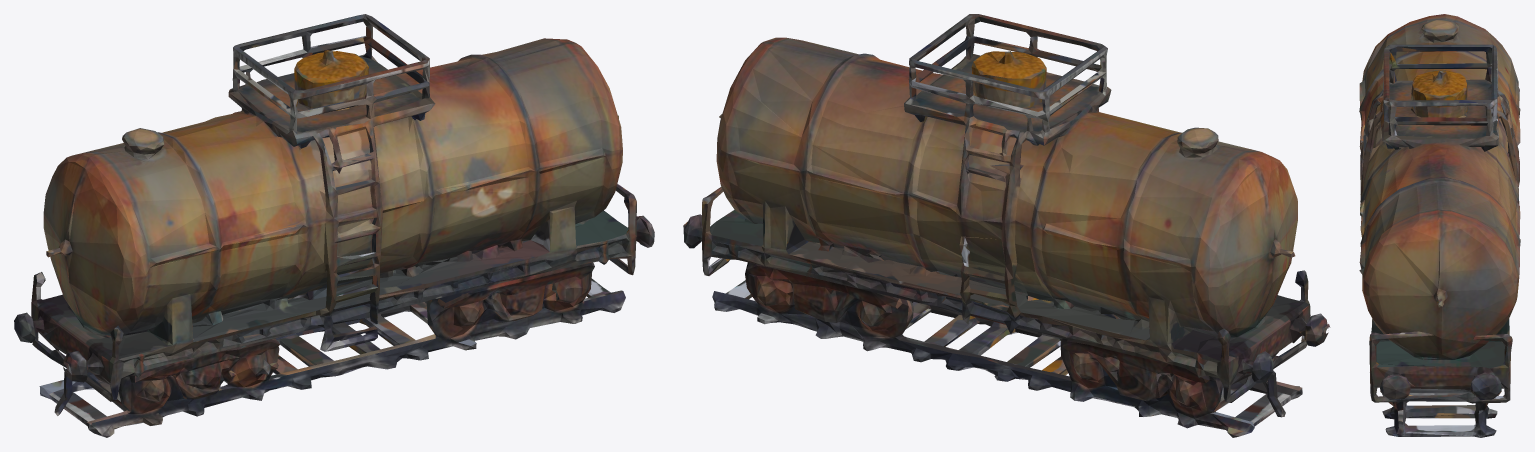
Rendered from war_fuel_tanker_1117.glb.
The picture shows the model from 3 angles, left to right: view 1: azimuth 30°, elevation 25°; view 2: azimuth 150°, elevation 25°; view 3: azimuth 270°, elevation 25°; orthographic projection. The views are drawn at different scales.
Parts seen in each view (by area): view 1: tmp1ejfh1zi.ply; view 2: tmp1ejfh1zi.ply; view 3: tmp1ejfh1zi.ply.
Boxes of the visible parts, x1,y1,x2,y2 form: tmp1ejfh1zi.ply: (14, 14, 654, 437); tmp1ejfh1zi.ply: (683, 14, 1330, 437); tmp1ejfh1zi.ply: (1359, 14, 1520, 437).
Size of the model in its own units: 2.01 by 0.9817 by 0.56.
Materials: 1 (1 with a texture image).
